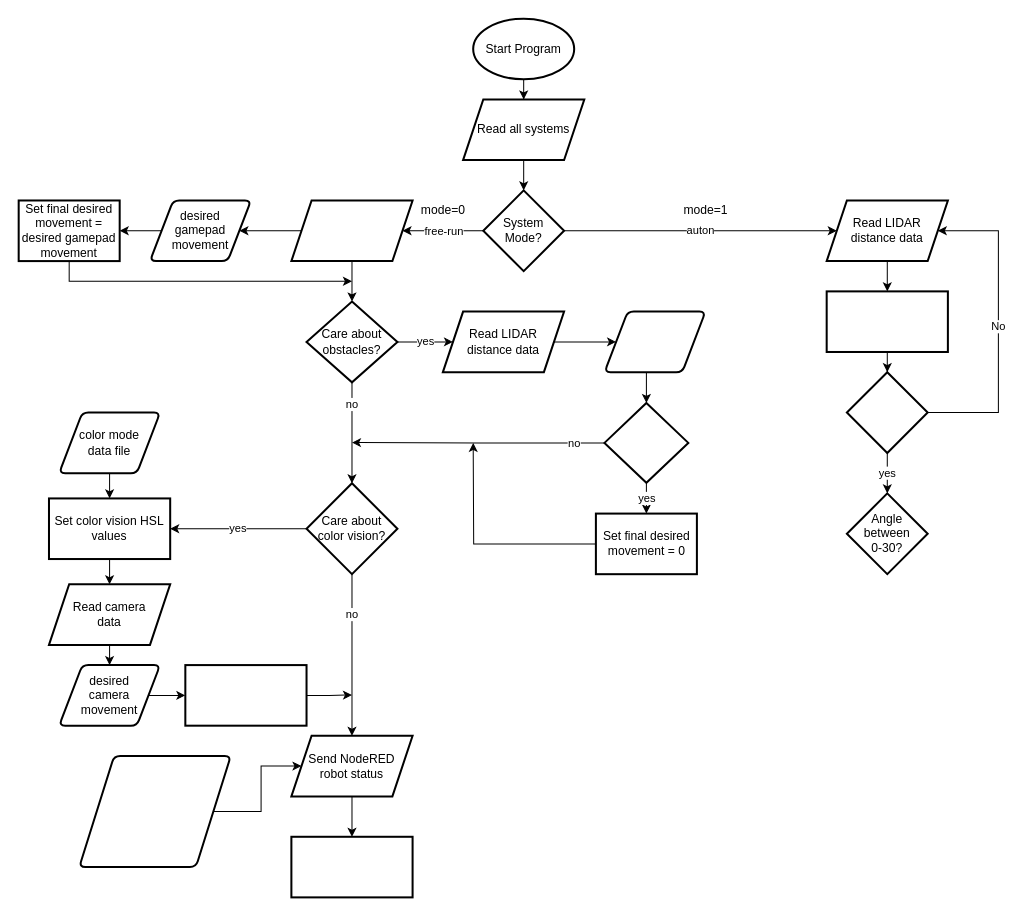
Some shapes in this 1024 by 915 pixel diagram are drawn without their labels. The shapes that lost their labels are listed below. From the top down, each one's box as (x1, y1, x2, y2) in pixels, then its label:
(290, 199, 413, 262): Read gamepad directions
(825, 290, 948, 352): From vector get distance and angle of closest object
(603, 310, 706, 373): desired lidar movement
(845, 371, 928, 453): Is distance < 0.4?
(603, 401, 689, 483): Is obstacle too close?
(184, 664, 307, 726): Set final desired movement = desired camera movement
(78, 754, 231, 868): dcJackVoltage temp distance, angle dx, dy x_dot, theta_dot
(290, 835, 413, 898): Do final desired movement
